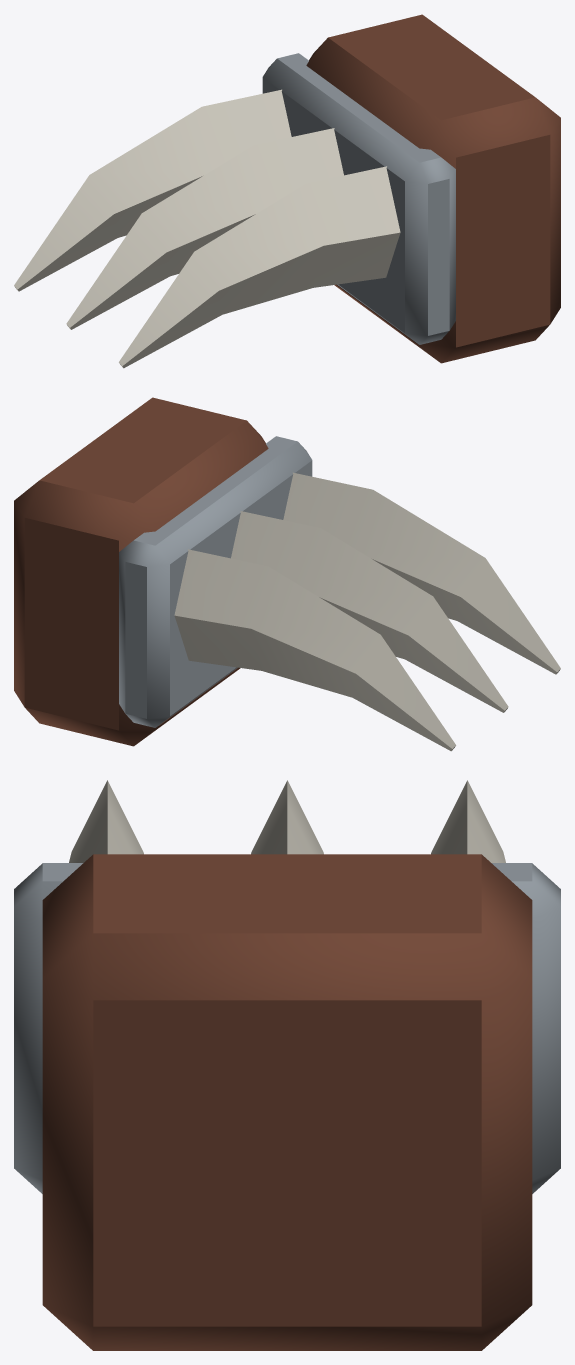
The model's file is rax_weapon_r.fbx.
3 views of the same model, one above another, from view 1: azimuth 30°, elevation 25°; view 2: azimuth 150°, elevation 25°; view 3: azimuth 270°, elevation 25° (orthographic). The views are drawn at different scales.
Parts seen in each view (by area): view 1: rax_weapon_r; view 2: rax_weapon_r; view 3: rax_weapon_r.
Part boxes in pixels (box(x1,y1,x2,y2)): rax_weapon_r: box(14, 14, 560, 368); rax_weapon_r: box(14, 397, 560, 751); rax_weapon_r: box(14, 780, 560, 1350).
Size of the model in its own units: 0.6033 by 0.32 by 0.38.
